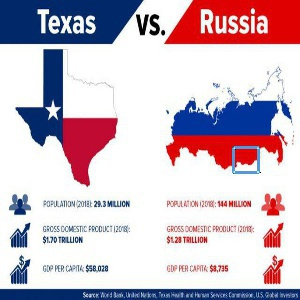square: (232, 145, 261, 175)
